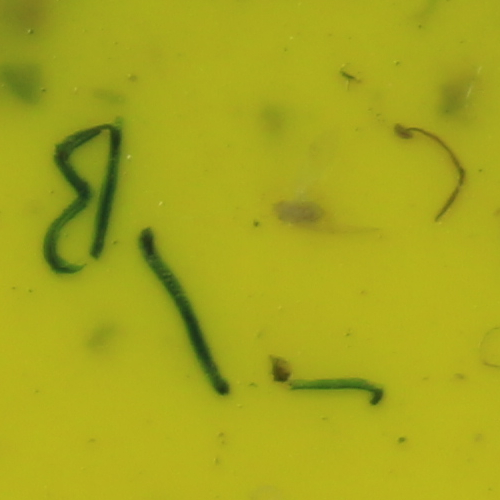psylla: (271, 194, 325, 227)
